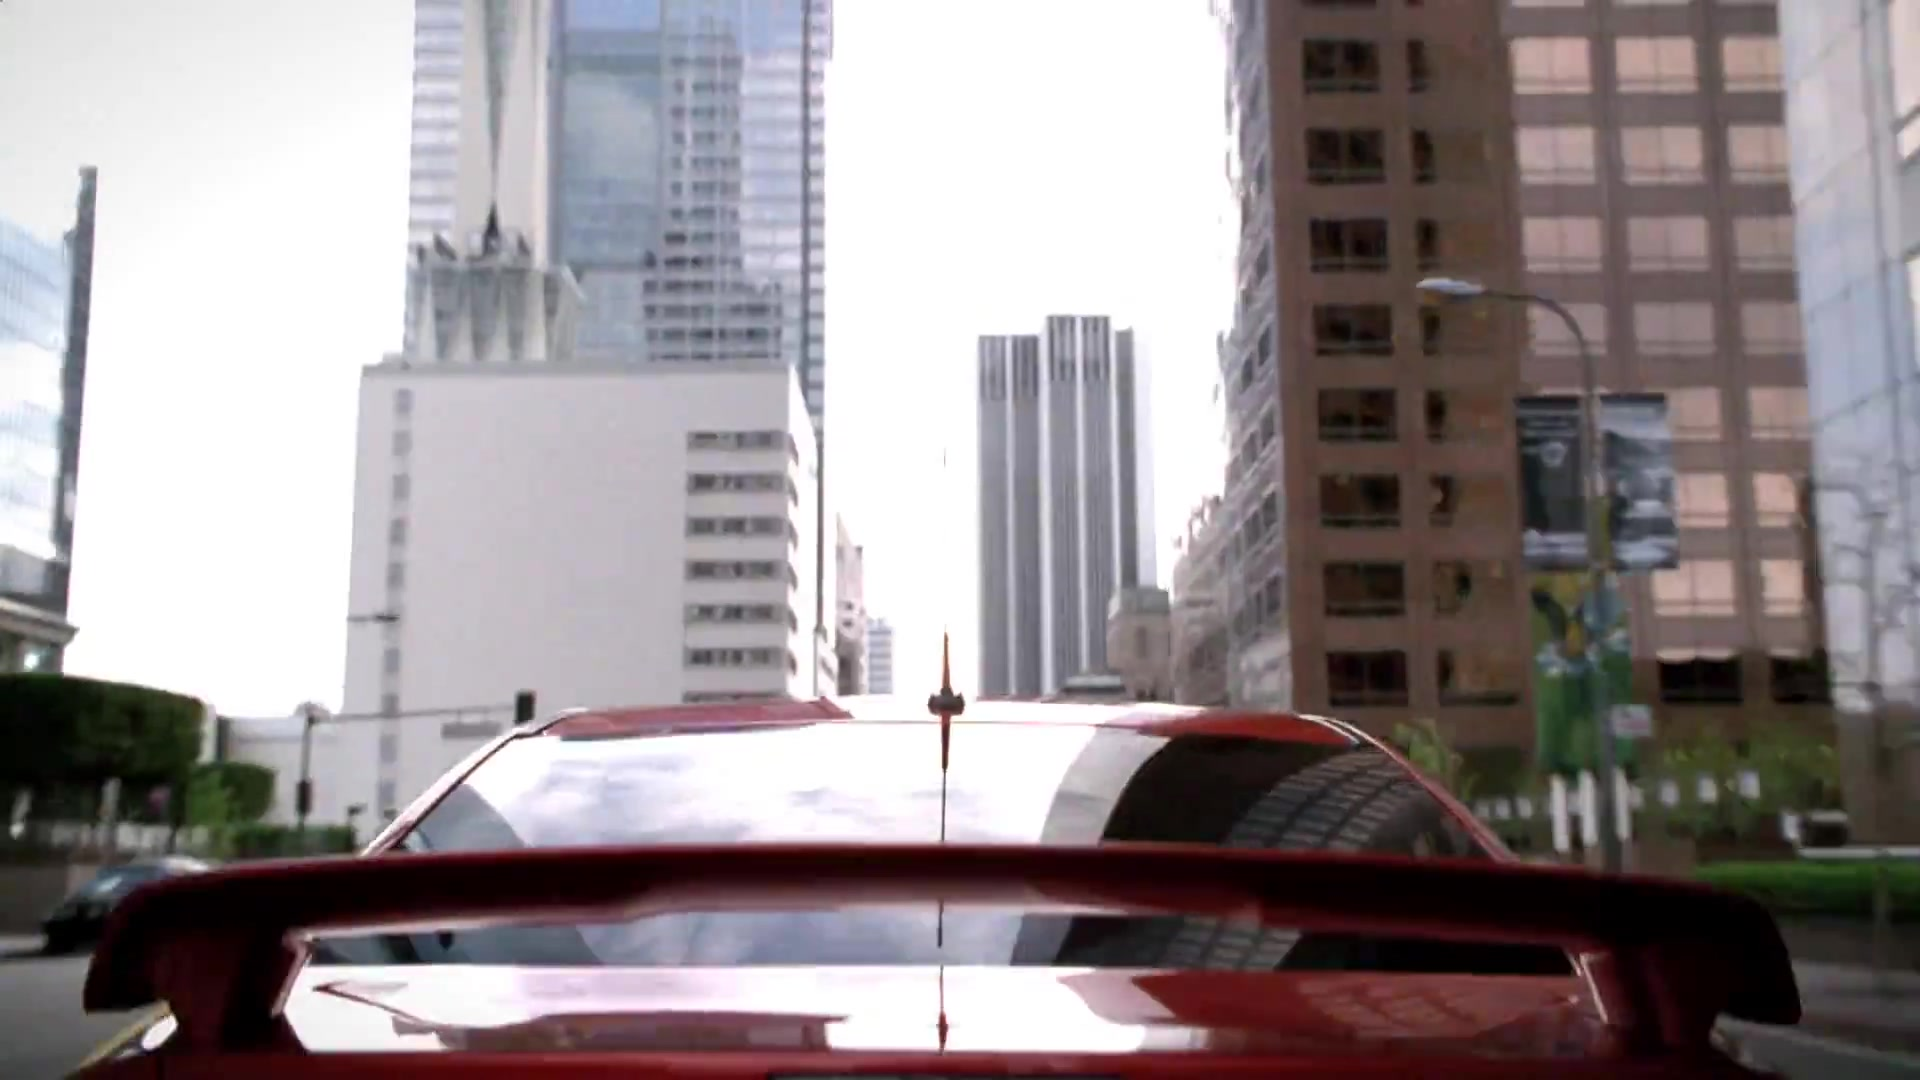car: (53, 680, 1820, 1080)
